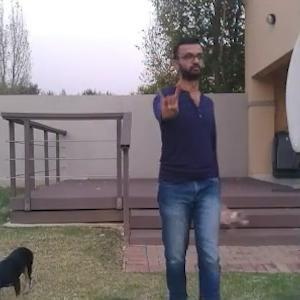takeoff-hand: (154, 75, 185, 123)
